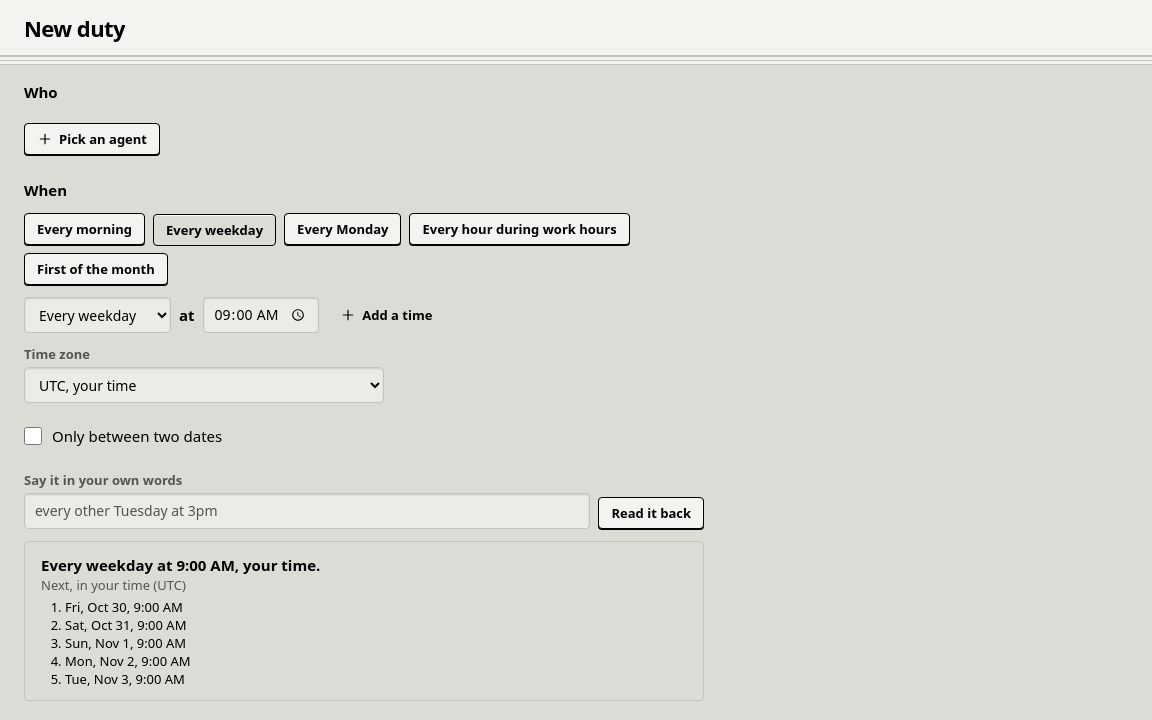
Test: New duty › reads the words of a person back and fills the sentence with the schedule of the front, or names what it cannot read
This screenshot has width=1152, height=720.
Type "every other tuesday at 3pm" into the field labelled "Say it in your own words".
click(307, 511); type("every other tuesday at 3pm")  # box [24,493,590,529]
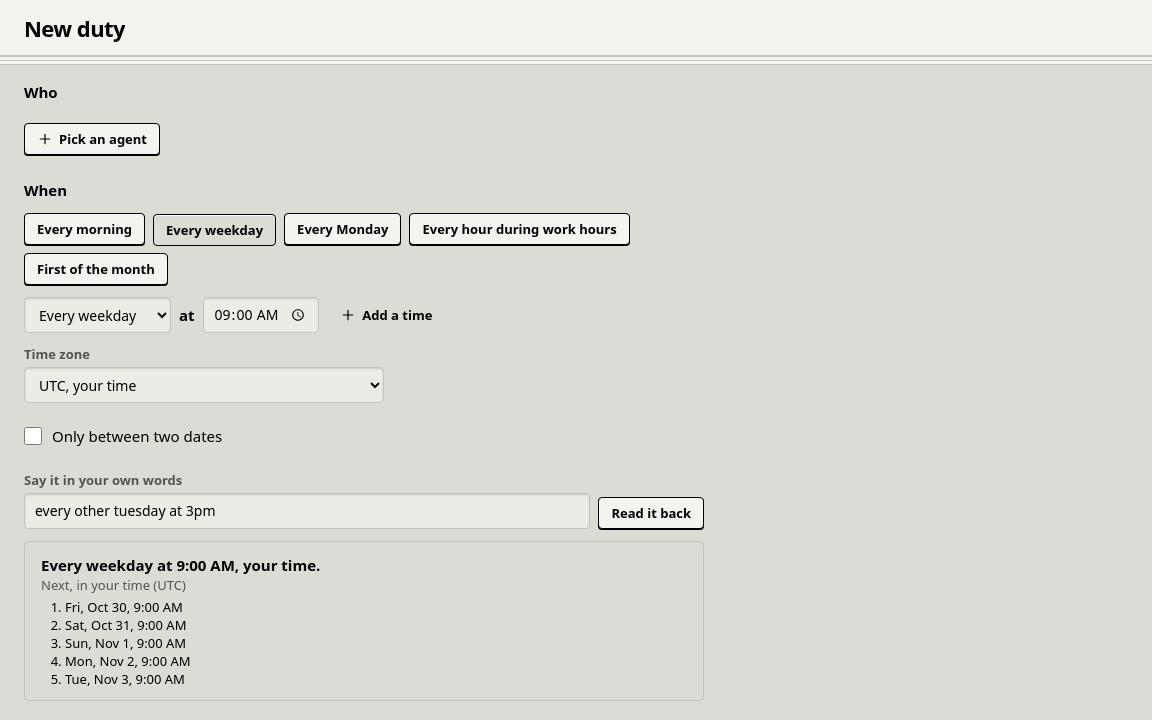
Click the button "Read it back".
click(651, 513)  # box [598,497,704,529]
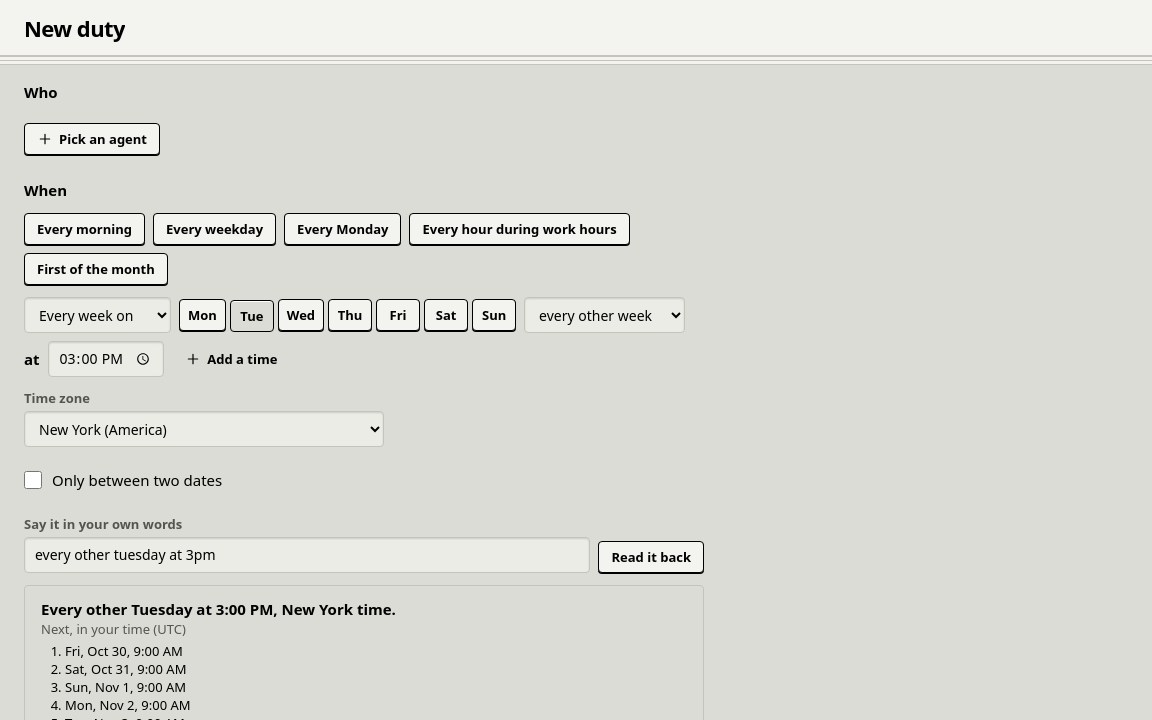
Expected: the time field named "Time" holds "15:00", [48,341,164,377]
Expected: the dropdown labelled "Time zone" shows "New York (America)", [24,411,384,447]
Expected: the text with class "duty-readback" reads "Every other Tuesday at 3:00 PM, New York time.", [41,599,396,619]
Replace the text in the field labelled "Say it in your own words" with "every tuesday after lunch" at (307, 555), box [24,537,590,573]
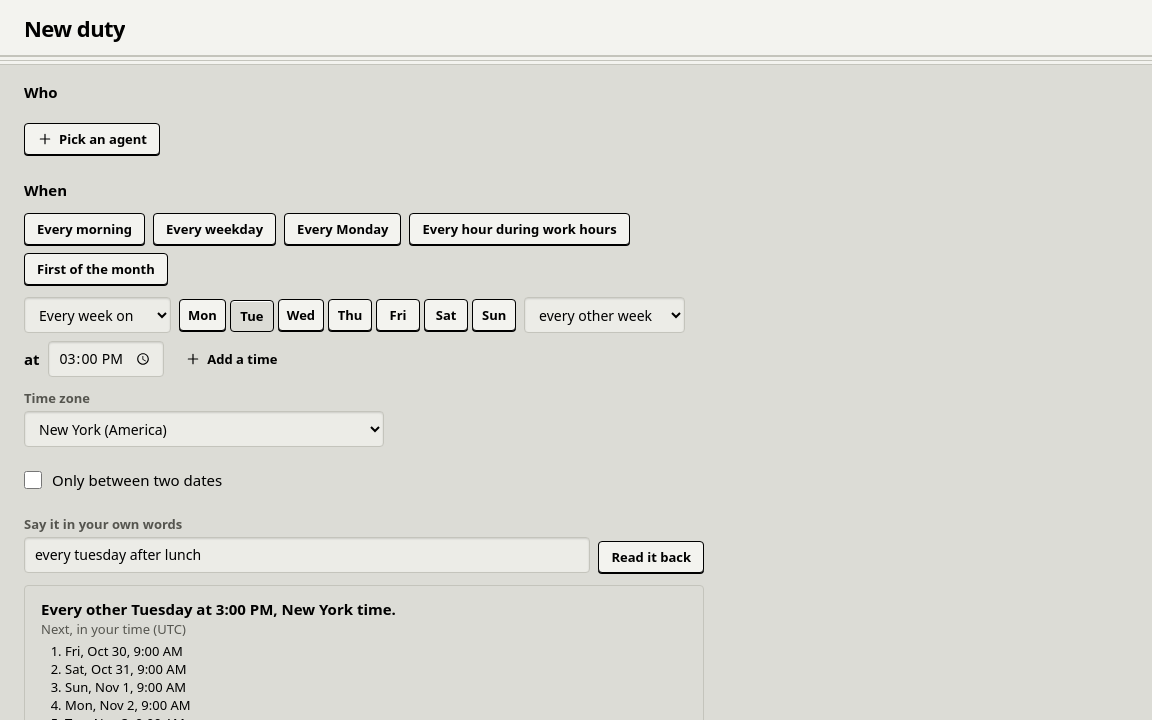
Click the button "Read it back".
click(651, 557)  # box [598,541,704,573]
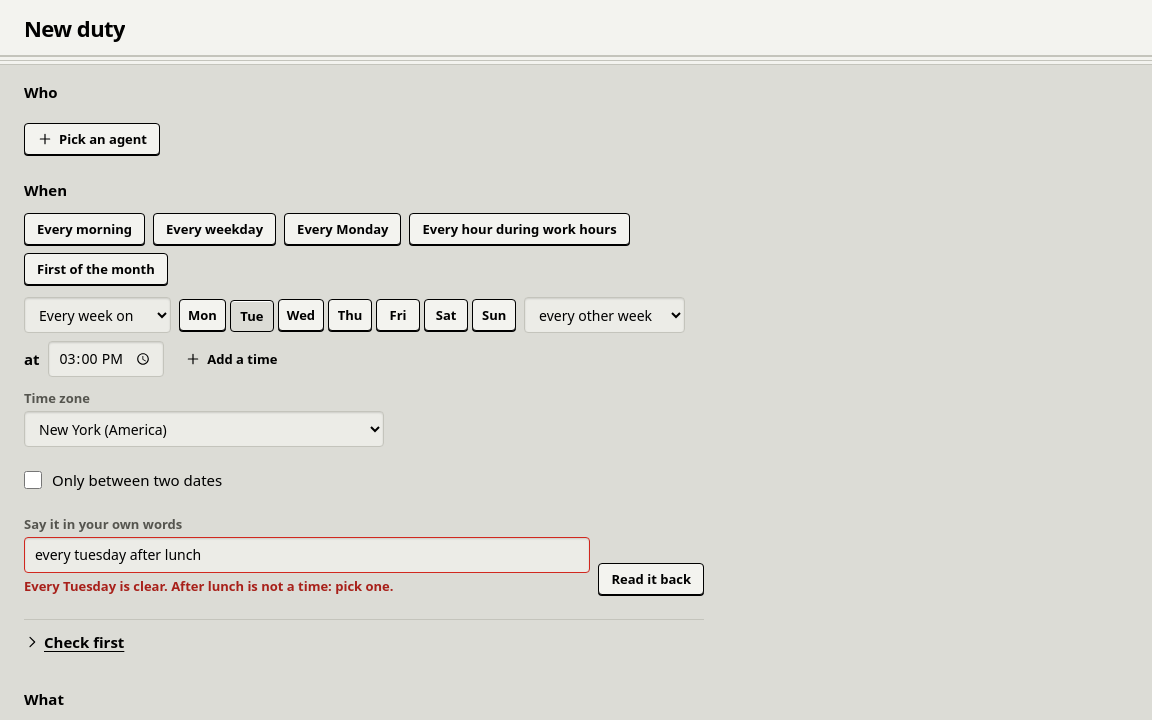
Expected: the message with class "field-error" reads "Every Tuesday is clear. After lunch is not a time: pick one.", [24,577,394,595]
